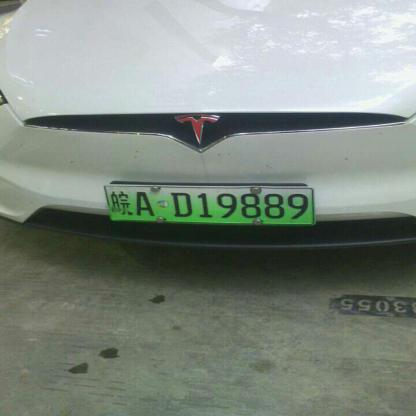lp: (104, 186, 314, 224)
